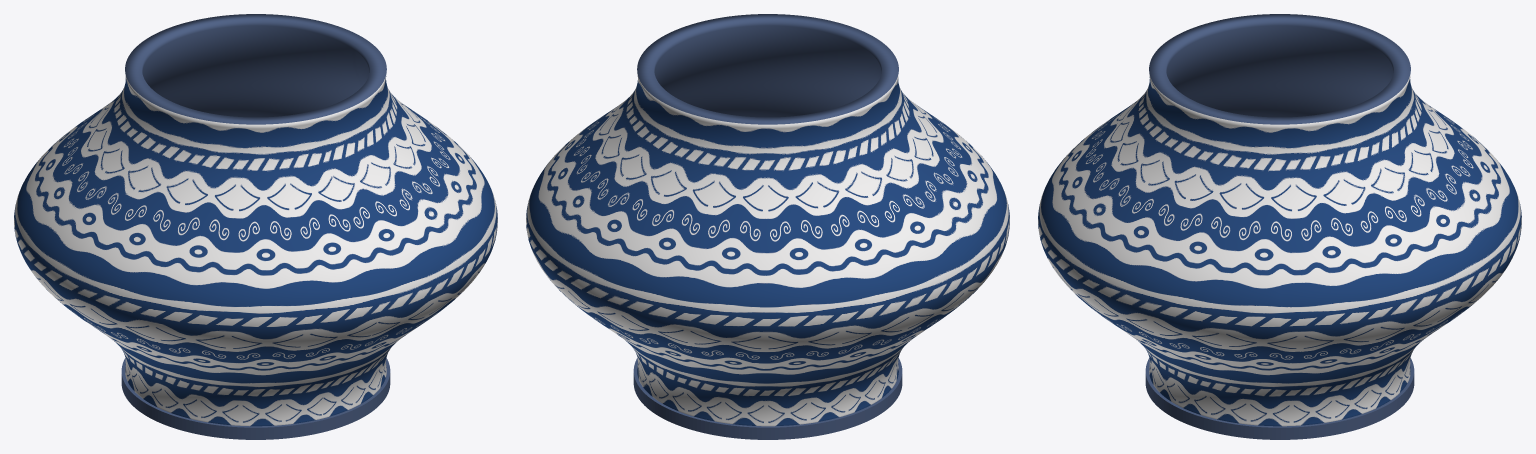
File: Vase3.fbx
The picture shows the model from 3 angles, left to right: view 1: azimuth 30°, elevation 25°; view 2: azimuth 150°, elevation 25°; view 3: azimuth 270°, elevation 25°; orthographic projection.
Parts seen in each view (by area): view 1: Object_1.028; view 2: Object_1.028; view 3: Object_1.028.
Part boxes in pixels (bbox=[...]): Object_1.028: bbox=[14, 14, 497, 439]; Object_1.028: bbox=[526, 14, 1009, 439]; Object_1.028: bbox=[1038, 14, 1521, 439].
Bounding box in the file's own units: 60.82 × 43.53 × 60.82.
